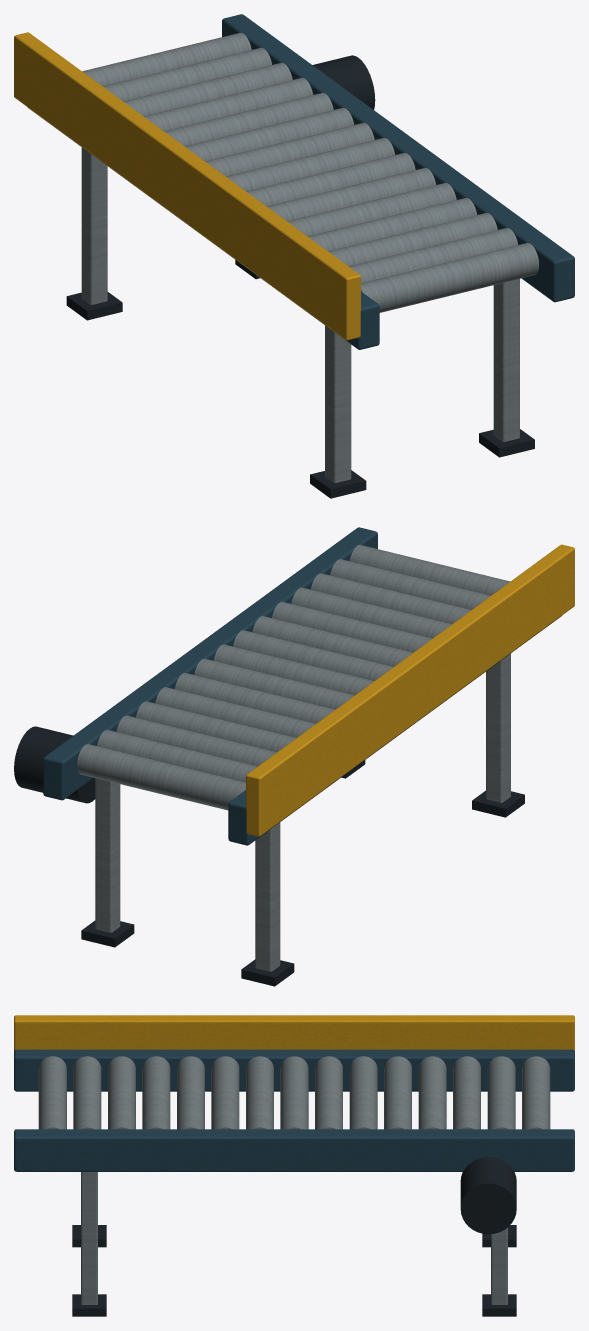
Rendered from conveyor.165992ce24bd.glb.
The picture shows the model from 3 angles, top to bottom: view 1: azimuth 30°, elevation 25°; view 2: azimuth 150°, elevation 25°; view 3: azimuth 270°, elevation 25°; orthographic projection. The views are drawn at different scales.
Parts seen in each view (by area): view 1: guard_0027, side_rail_0002, roller_0017, leg_0024, leg_0018, leg_0020, roller_0016, roller_0003, roller_0005, roller_0007, roller_0011, roller_0013 (+13 smaller); view 2: guard_0027, side_rail_0002, roller_0003, leg_0022, leg_0018, leg_0020, roller_0004, roller_0016, roller_0011, roller_0013, roller_0005, roller_0006 (+13 smaller); view 3: side_rail_0002, guard_0027, side_rail_0001, drive_motor_0026, leg_0024, roller_0003, roller_0010, roller_0017, roller_0004, roller_0006, roller_0008, roller_0012 (+12 smaller).
Part boxes in pixels (box(x1,y1,x2,y2)): guard_0027: box(14, 32, 360, 340); side_rail_0002: box(222, 14, 574, 302); roller_0017: box(361, 242, 539, 312); leg_0024: box(493, 279, 519, 441); leg_0018: box(81, 147, 107, 304); leg_0020: box(325, 325, 351, 482); roller_0016: box(349, 227, 517, 283); roller_0003: box(82, 32, 251, 86); roller_0005: box(123, 62, 292, 116); roller_0007: box(164, 92, 333, 146); roller_0011: box(246, 152, 415, 206); roller_0013: box(287, 182, 456, 236); guard_0027: box(246, 544, 574, 836); side_rail_0002: box(43, 527, 377, 800); roller_0003: box(77, 744, 245, 810); leg_0022: box(95, 778, 120, 932); leg_0018: box(255, 822, 280, 971); leg_0020: box(486, 653, 510, 802); roller_0004: box(97, 729, 257, 782); roller_0016: box(330, 559, 490, 609); roller_0011: box(233, 630, 393, 680); roller_0013: box(272, 601, 432, 652); roller_0005: box(116, 715, 276, 766); roller_0006: box(136, 701, 296, 751); side_rail_0002: box(14, 1129, 574, 1171); guard_0027: box(14, 1015, 574, 1050); side_rail_0001: box(14, 1049, 574, 1091); drive_motor_0026: box(460, 1157, 516, 1234); leg_0024: box(81, 1172, 97, 1304); roller_0003: box(522, 1056, 550, 1129); roller_0010: box(280, 1056, 308, 1129); roller_0017: box(38, 1056, 66, 1129); roller_0004: box(487, 1056, 515, 1129); roller_0006: box(418, 1056, 446, 1129); roller_0008: box(349, 1056, 377, 1129); roller_0012: box(211, 1056, 239, 1129).
Size of the model in its own units: 1.33 by 1.08 by 2.6.
Materials: 4 (4 with a texture image).
